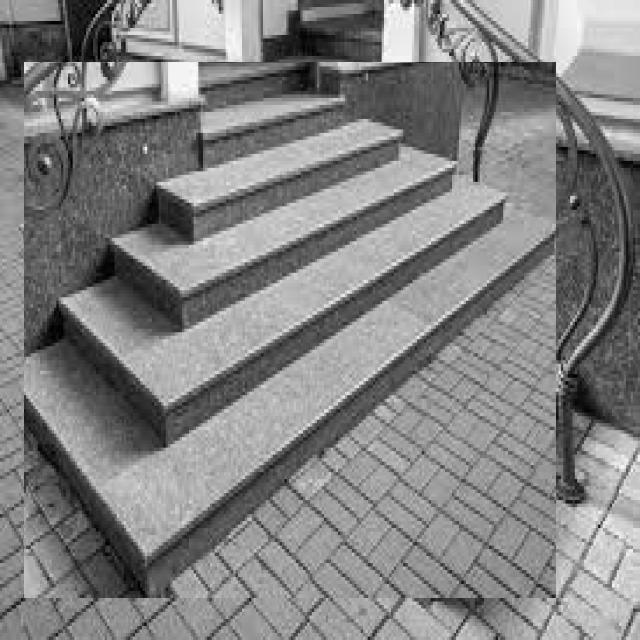stair: (24, 62, 556, 598)
